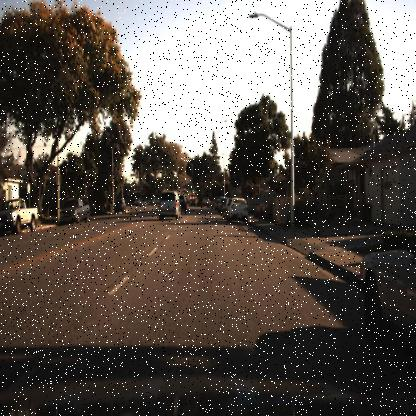car: (356, 232, 415, 344), (0, 199, 40, 235), (54, 195, 90, 227), (60, 195, 94, 223), (157, 188, 182, 221), (250, 188, 284, 212), (229, 197, 250, 225), (111, 196, 128, 214), (112, 196, 126, 215)
